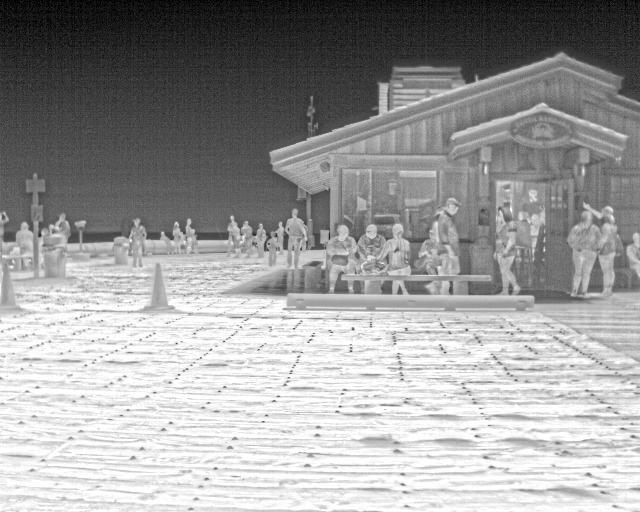person and bycle: (560, 218, 607, 292), (439, 199, 472, 293), (411, 205, 447, 286), (492, 213, 528, 291), (595, 206, 626, 292), (324, 225, 362, 291), (382, 224, 418, 291), (354, 224, 392, 283), (281, 211, 312, 271), (123, 218, 155, 270), (16, 219, 42, 262), (264, 225, 287, 267), (246, 221, 270, 257), (223, 214, 244, 250), (179, 220, 201, 251), (166, 220, 185, 248), (53, 215, 73, 236)
traffic cone: (146, 263, 180, 314), (3, 260, 28, 317)
trash: (45, 244, 72, 282)
